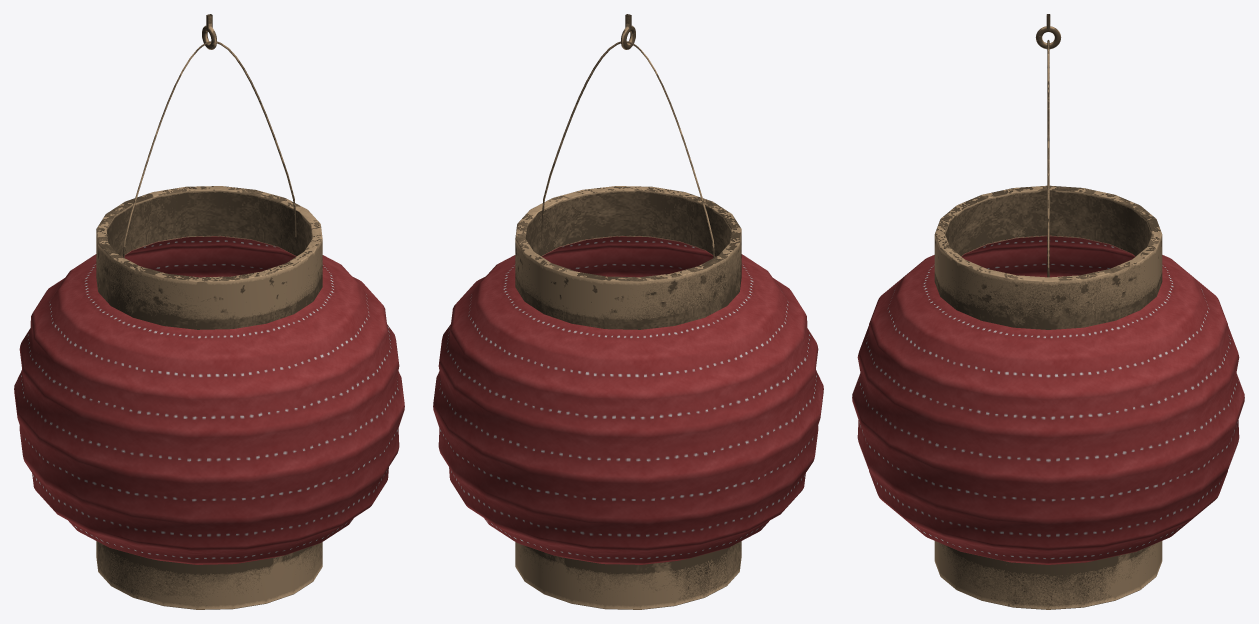
File: Chinese_Japanese_paper_lantern_chochin.glb
3 renders of one model, left to right at view 1: azimuth 30°, elevation 25°; view 2: azimuth 150°, elevation 25°; view 3: azimuth 270°, elevation 25°, orthographic.
Visible parts, largest first — view 1: LIGHt_Lantern_0; view 2: LIGHt_Lantern_0; view 3: LIGHt_Lantern_0.
Part boxes in pixels (x1,y1,x2,y2): LIGHt_Lantern_0: (14,14,404,609); LIGHt_Lantern_0: (433,14,823,609); LIGHt_Lantern_0: (852,14,1244,609).
Bounding box in the file's own units: 0.378 × 0.581 × 0.378.
Materials: 1 (1 with a texture image).
